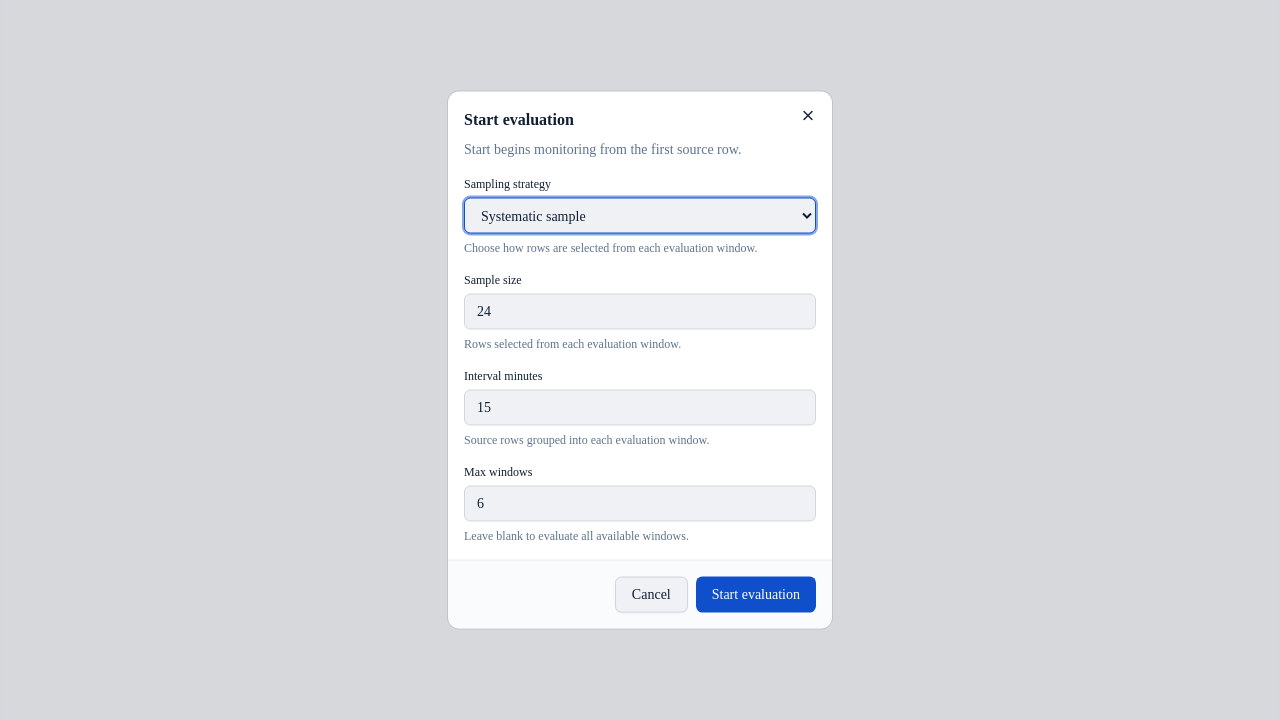
EvaluationConfigDialog › validates Interval minutes before submission
Select "Systematic sample" in the dropdown labelled "Sampling strategy": (640,216) x1=464 y1=198 x2=816 y2=234
Replace the text in the number field labelled "Interval minutes" with "0": (640,408) x1=464 y1=390 x2=816 y2=426
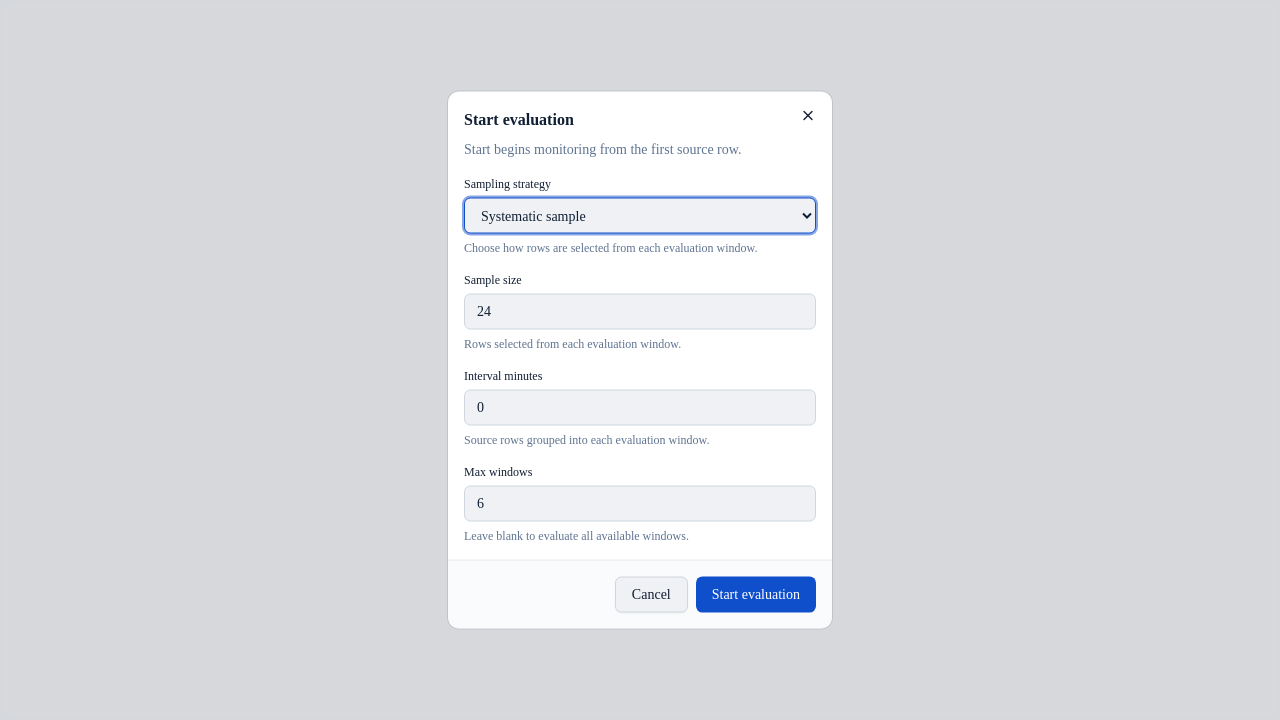
Click the button "Start evaluation": (756,594) x1=696 y1=576 x2=816 y2=612
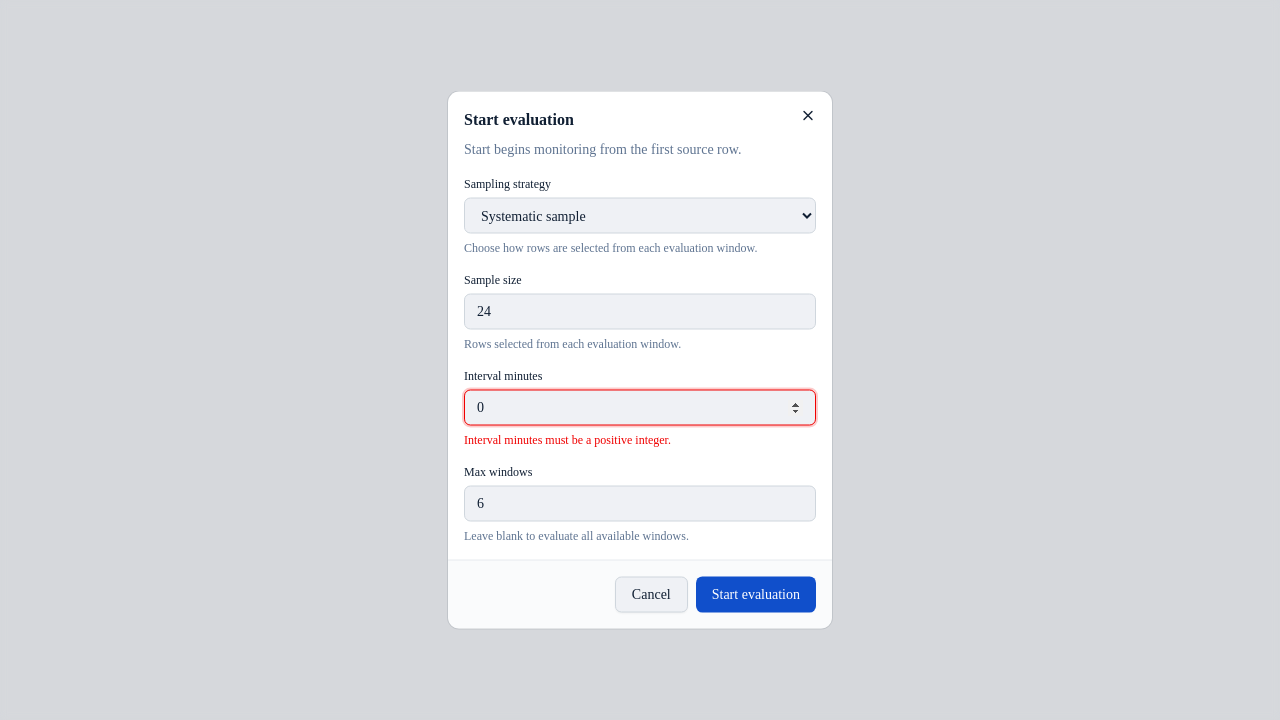
Expected: the text "Interval minutes must be a positive integer." is shown, x1=464 y1=432 x2=671 y2=446
